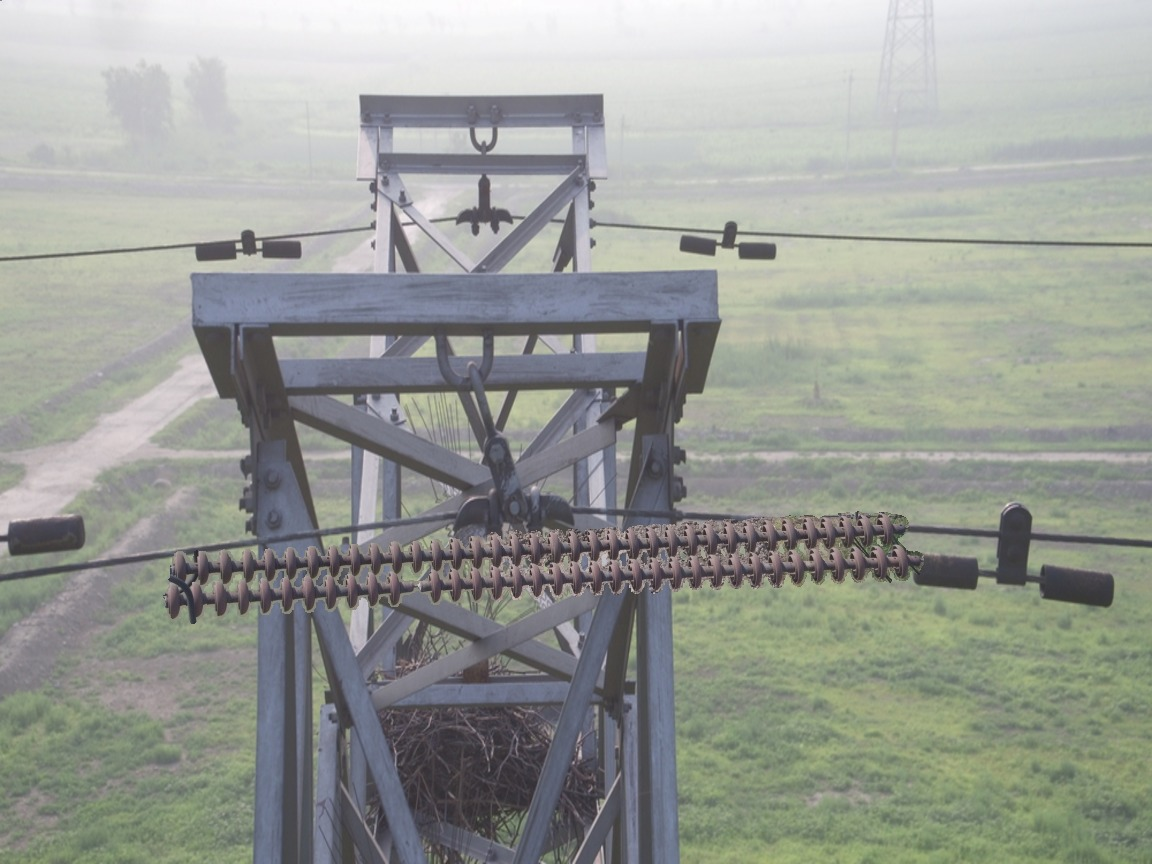defect: (381, 564, 447, 604)
